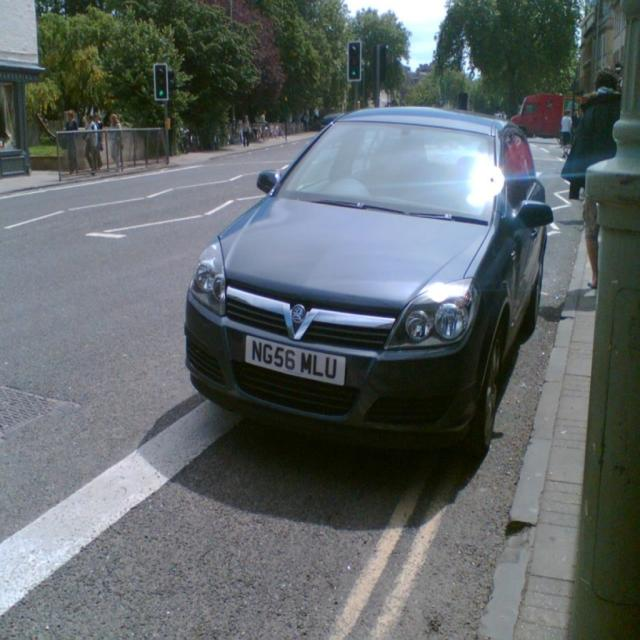car: (185, 101, 543, 459)
